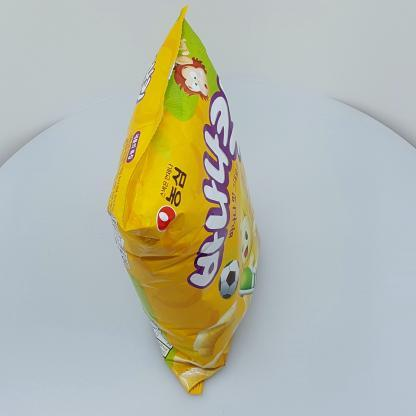Plastic Packaging: (99, 2, 273, 402)
